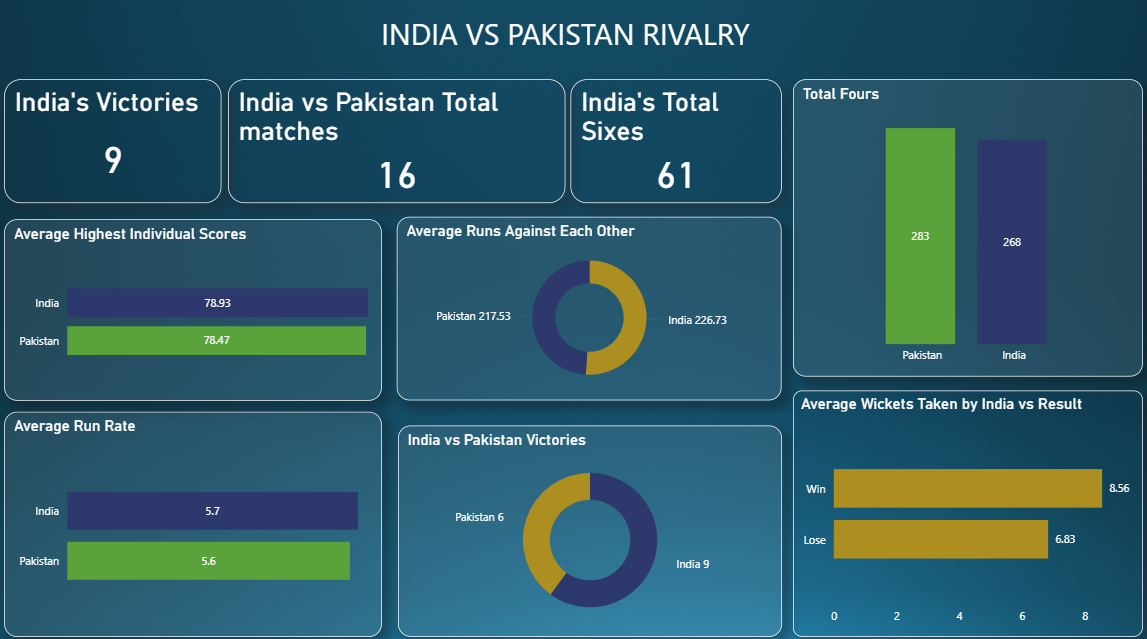

The page's visual inventory and layout, read from the dashboard file:
{"tool":"powerbi","page":{"name":"India VS Pakistan","canvas":[1280,720],"ordinal":1},"visuals":[{"type":"barChart","title":"Average Run Rate ","fields":{"Category":["asiacup.Team"],"Series":["asiacup.Opponent"],"Y":["Avg(asiacup.Run Rate)"]},"box":[17.8,459.7,414.4,247],"z":0},{"type":"donutChart","title":"Average Runs Against Each Other ","fields":{"Category":["asiacup.Team"],"Series":["asiacup.Opponent"],"Y":["Avg(asiacup.Run Scored)"]},"box":[448.7,245.6,422.6,201.7],"z":1000},{"type":"barChart","title":"Average Highest Individual Scores","fields":{"Category":["asiacup.Team"],"Series":["asiacup.Opponent"],"Y":["Avg(asiacup.Highest Score)"]},"box":[17.8,248.4,414.4,199],"z":2000},{"type":"card","title":"India''s Victories ","fields":{"Values":["asiacup.Total wins"]},"box":[17.8,94.7,238.8,135.8],"z":3000},{"type":"card","title":"India vs Pakistan Total matches","fields":{"Values":["asiacup.Total Matches"]},"box":[263.5,94.7,370.5,135.8],"z":4000},{"type":"donutChart","title":"India vs Pakistan Victories","fields":{"Category":["asiacup.Team"],"Y":["asiacup.Total wins"]},"box":[450.1,474.8,421.3,231.9],"z":5000},{"type":"textbox","box":[0,17.8,1267.9,76.8],"z":6000},{"type":"card","title":"India''s Total Sixes ","fields":{"Values":["Sum(asiacup.Sixes)"]},"box":[639.5,94.7,231.9,135.8],"z":7000},{"type":"columnChart","title":"Total Fours","fields":{"Category":["asiacup.Team"],"Series":["asiacup.Opponent"],"Y":["Sum(asiacup.Fours)"]},"box":[883.7,94.7,384.2,326.6],"z":8000},{"type":"clusteredBarChart","title":"Average Wickets Taken by India vs Result","fields":{"Y":["Avg(asiacup.Wicket Taken)"],"Category":["asiacup.Result"]},"box":[883.7,436.4,384.2,270.3],"z":9000}]}

Visuals, with their boxes in screenshot pixels (x1, y1, x2, y2), scaled from the page's 1280x720 canvas onto the 1147x639 screenshot:
"Average Run Rate " barChart: 16,408,387,627
"Average Runs Against Each Other " donutChart: 402,218,781,397
"Average Highest Individual Scores" barChart: 16,220,387,397
"India''s Victories " card: 16,84,230,205
"India vs Pakistan Total matches" card: 236,84,568,205
"India vs Pakistan Victories" donutChart: 403,421,781,627
textbox: 0,16,1136,84
"India''s Total Sixes " card: 573,84,781,205
"Total Fours" columnChart: 792,84,1136,374
"Average Wickets Taken by India vs Result" clusteredBarChart: 792,387,1136,627
